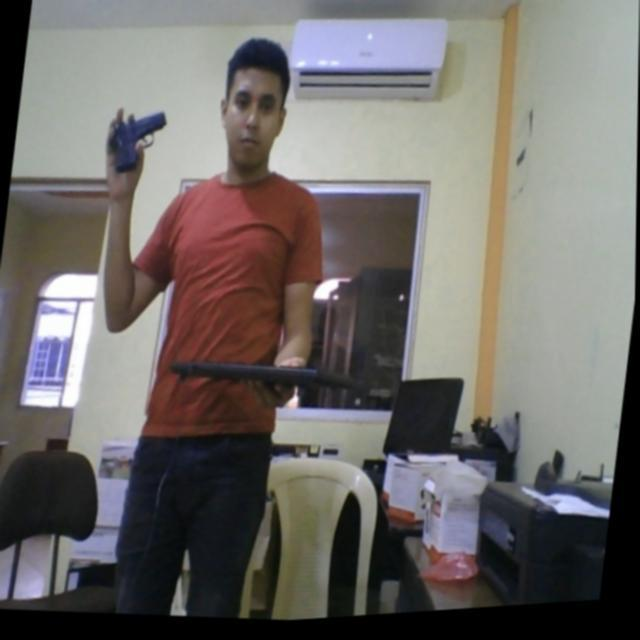weapon: (105, 104, 170, 179)
